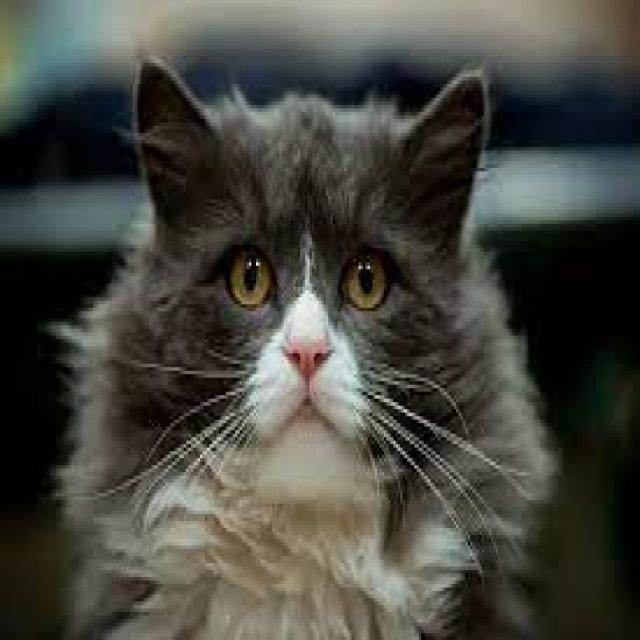Cat: (56, 45, 549, 640)
